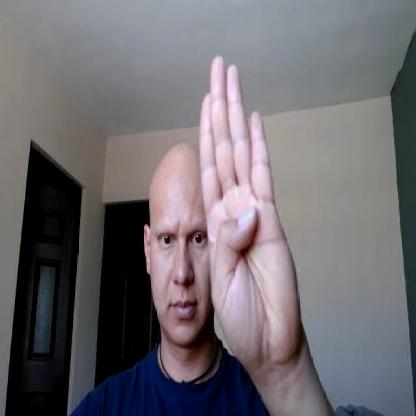B: (201, 54, 301, 362)
